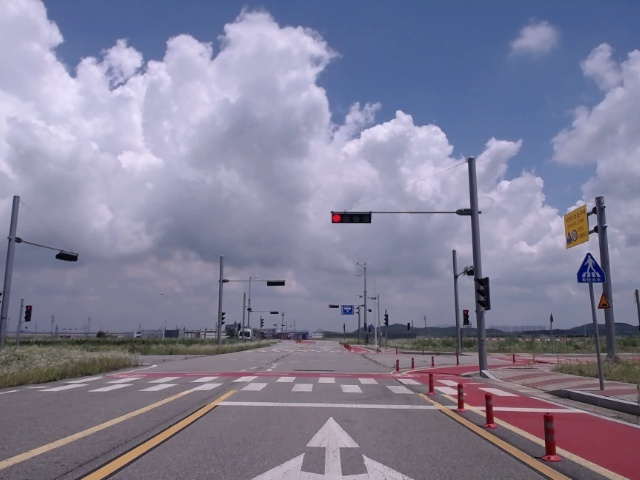red_4: (332, 213, 371, 223)
